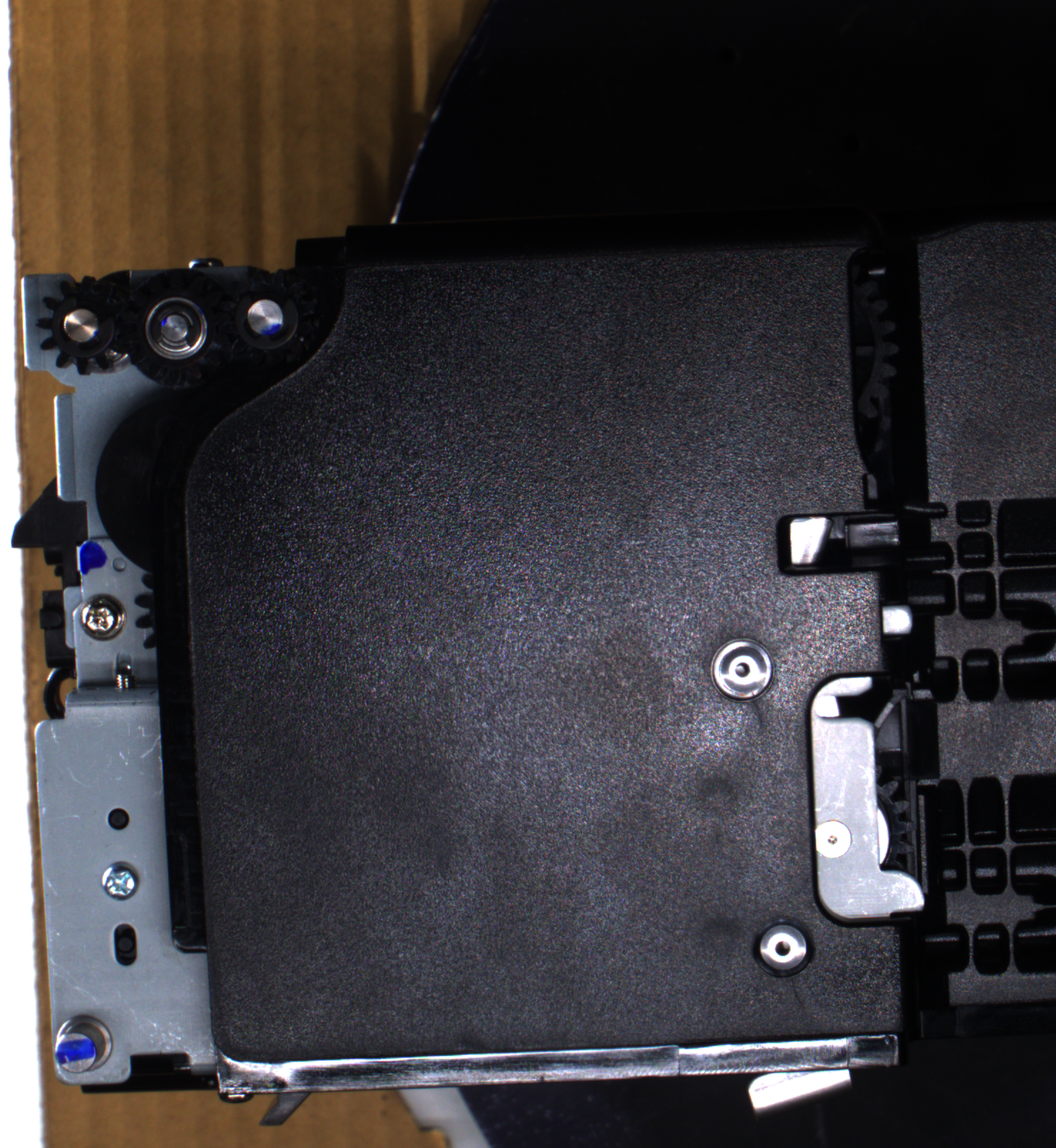centre_pin_presence: (742, 1051, 857, 1117)
centre_plate_presence: (804, 667, 934, 932)
centre_screw_presence: (707, 631, 780, 708), (746, 910, 818, 985)
gear1_presence: (36, 272, 136, 378)
gear2_presence: (120, 268, 231, 390)
gear3_presence: (213, 264, 317, 371)
side_screw_presence: (77, 591, 128, 642), (97, 859, 141, 901)
slanting_pin_presence: (52, 1012, 121, 1080)
